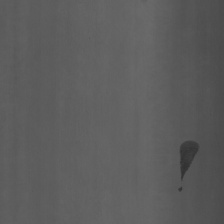oil_spot: (175, 131, 200, 195)
